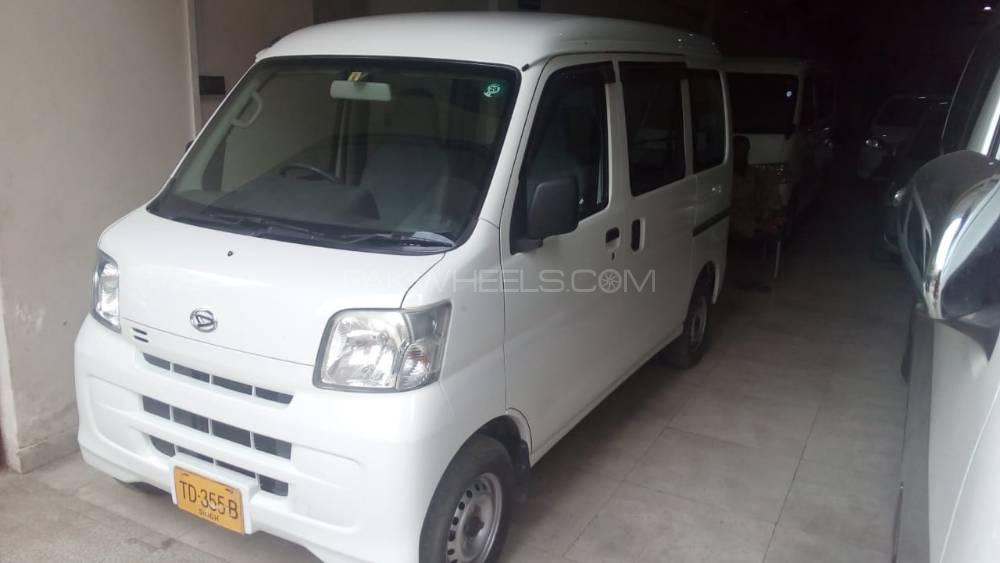license plate: (173, 465, 245, 536)
